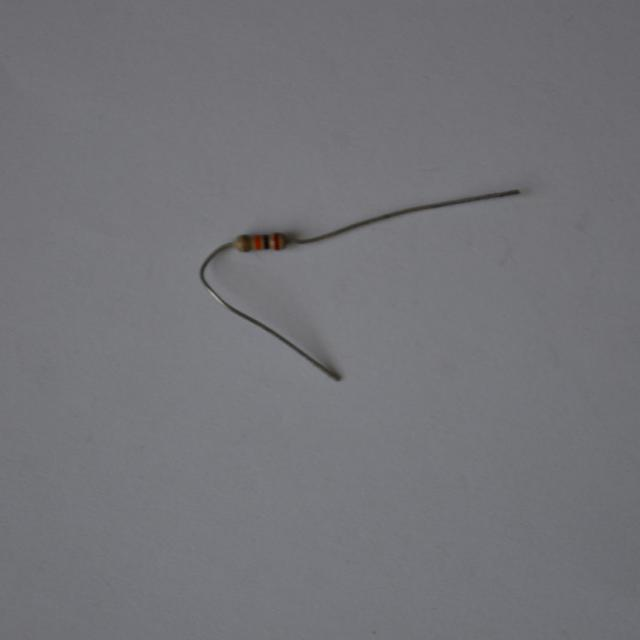black: (263, 235, 269, 248)
gold: (244, 235, 251, 251)
orange: (254, 236, 261, 249)
red: (274, 234, 278, 248)
resistor: (228, 229, 290, 256)
